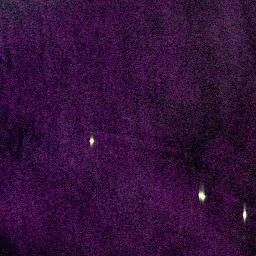Ship: (195, 187, 207, 202), (240, 206, 250, 222), (85, 133, 97, 145)
